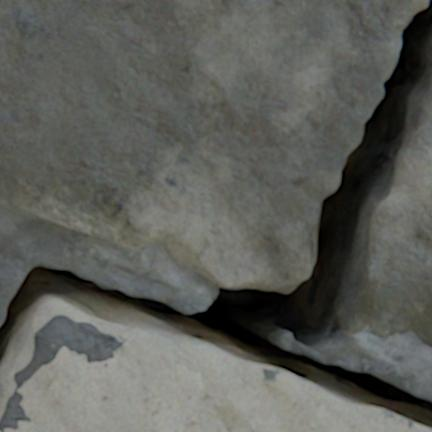brick: (5, 334, 431, 431), (11, 382, 16, 394)
broken_brick: (0, 0, 427, 288), (342, 82, 431, 347)
crack: (0, 0, 431, 429), (148, 239, 167, 249)
